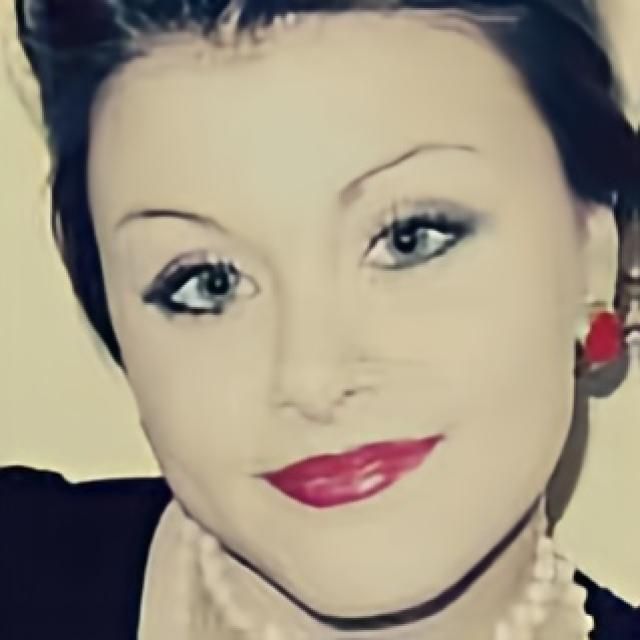content: (82, 8, 579, 619)
